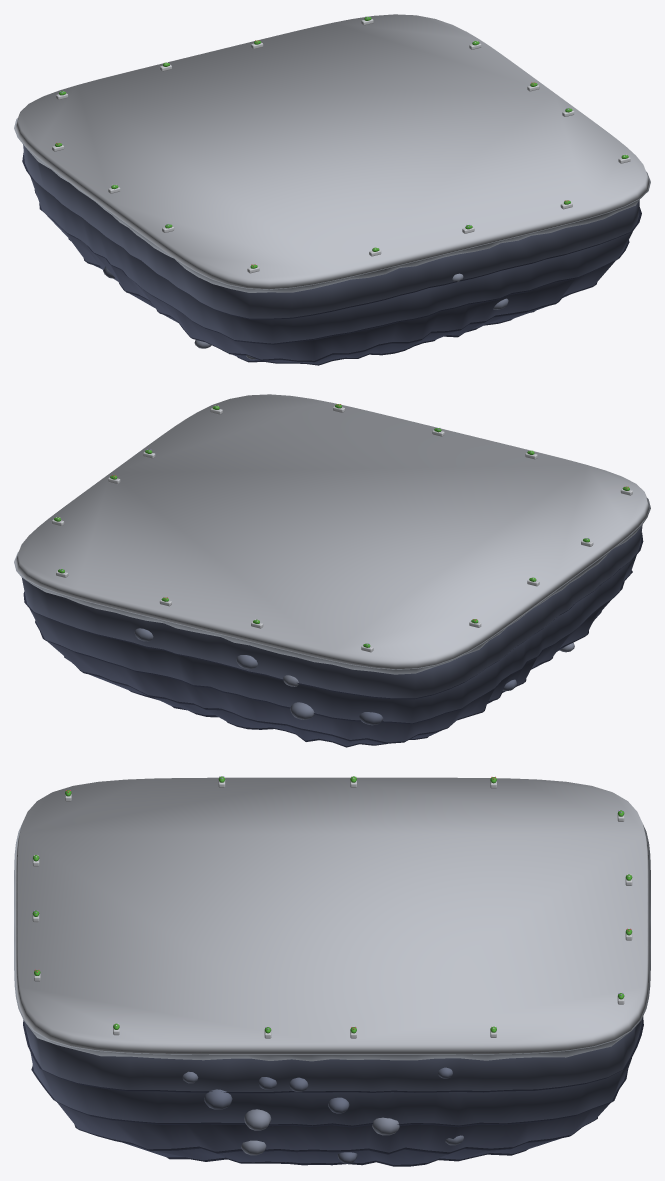
The model's file is island.glb.
3 views of the same model, one above another, from view 1: azimuth 30°, elevation 25°; view 2: azimuth 150°, elevation 25°; view 3: azimuth 270°, elevation 25° (orthographic). The views are drawn at different scales.
Parts seen in each view (by area): view 1: top; view 2: top; view 3: top.
Boxes of the visible parts, x1,y1,x2,y2 form: top: [14, 14, 650, 365]; top: [14, 394, 650, 747]; top: [14, 776, 650, 1166].
Size of the model in its own units: 9.57 by 3.72 by 9.56.
